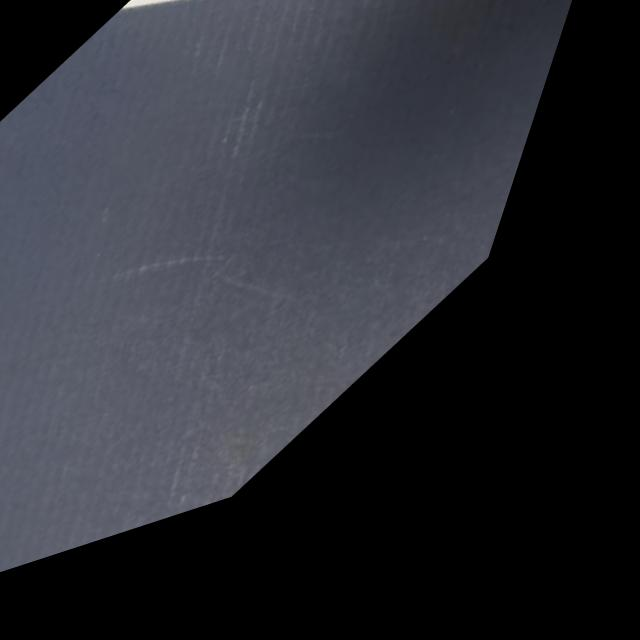cardboard: (0, 0, 608, 616)
